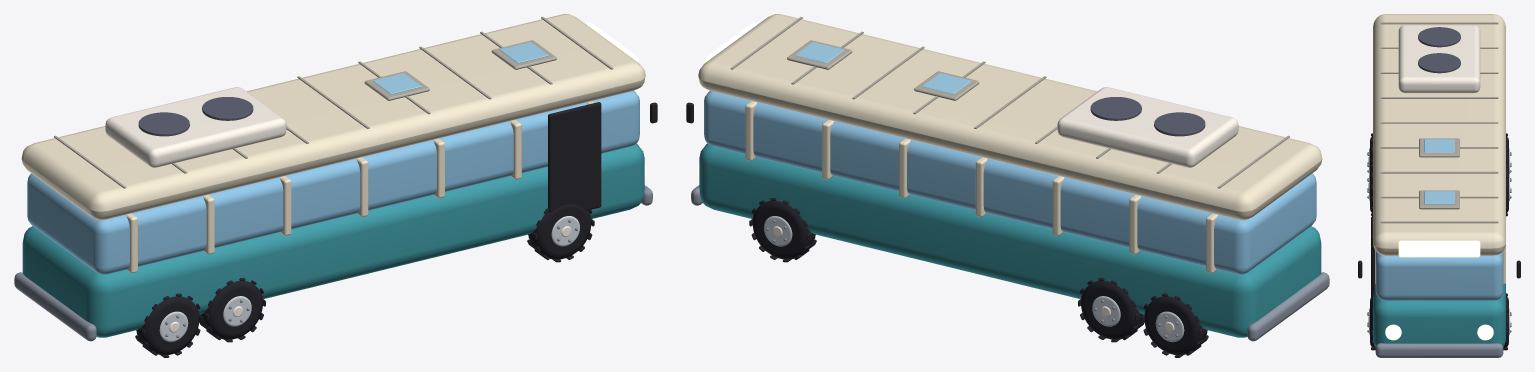
Rendered from bus.glb.
The picture shows the model from 3 angles, left to right: view 1: azimuth 30°, elevation 25°; view 2: azimuth 150°, elevation 25°; view 3: azimuth 270°, elevation 25°; orthographic projection. The views are drawn at different scales.
Visible parts, largest first — view 1: bus; view 2: bus; view 3: bus.
Boxes of the visible parts, x1,y1,x2,y2 form: bus: [14, 14, 657, 357]; bus: [686, 14, 1329, 357]; bus: [1358, 14, 1520, 357].
Bounding box in the file's own units: 10.7 × 3.55 × 3.18.
Materials: 1 (1 with a texture image).
